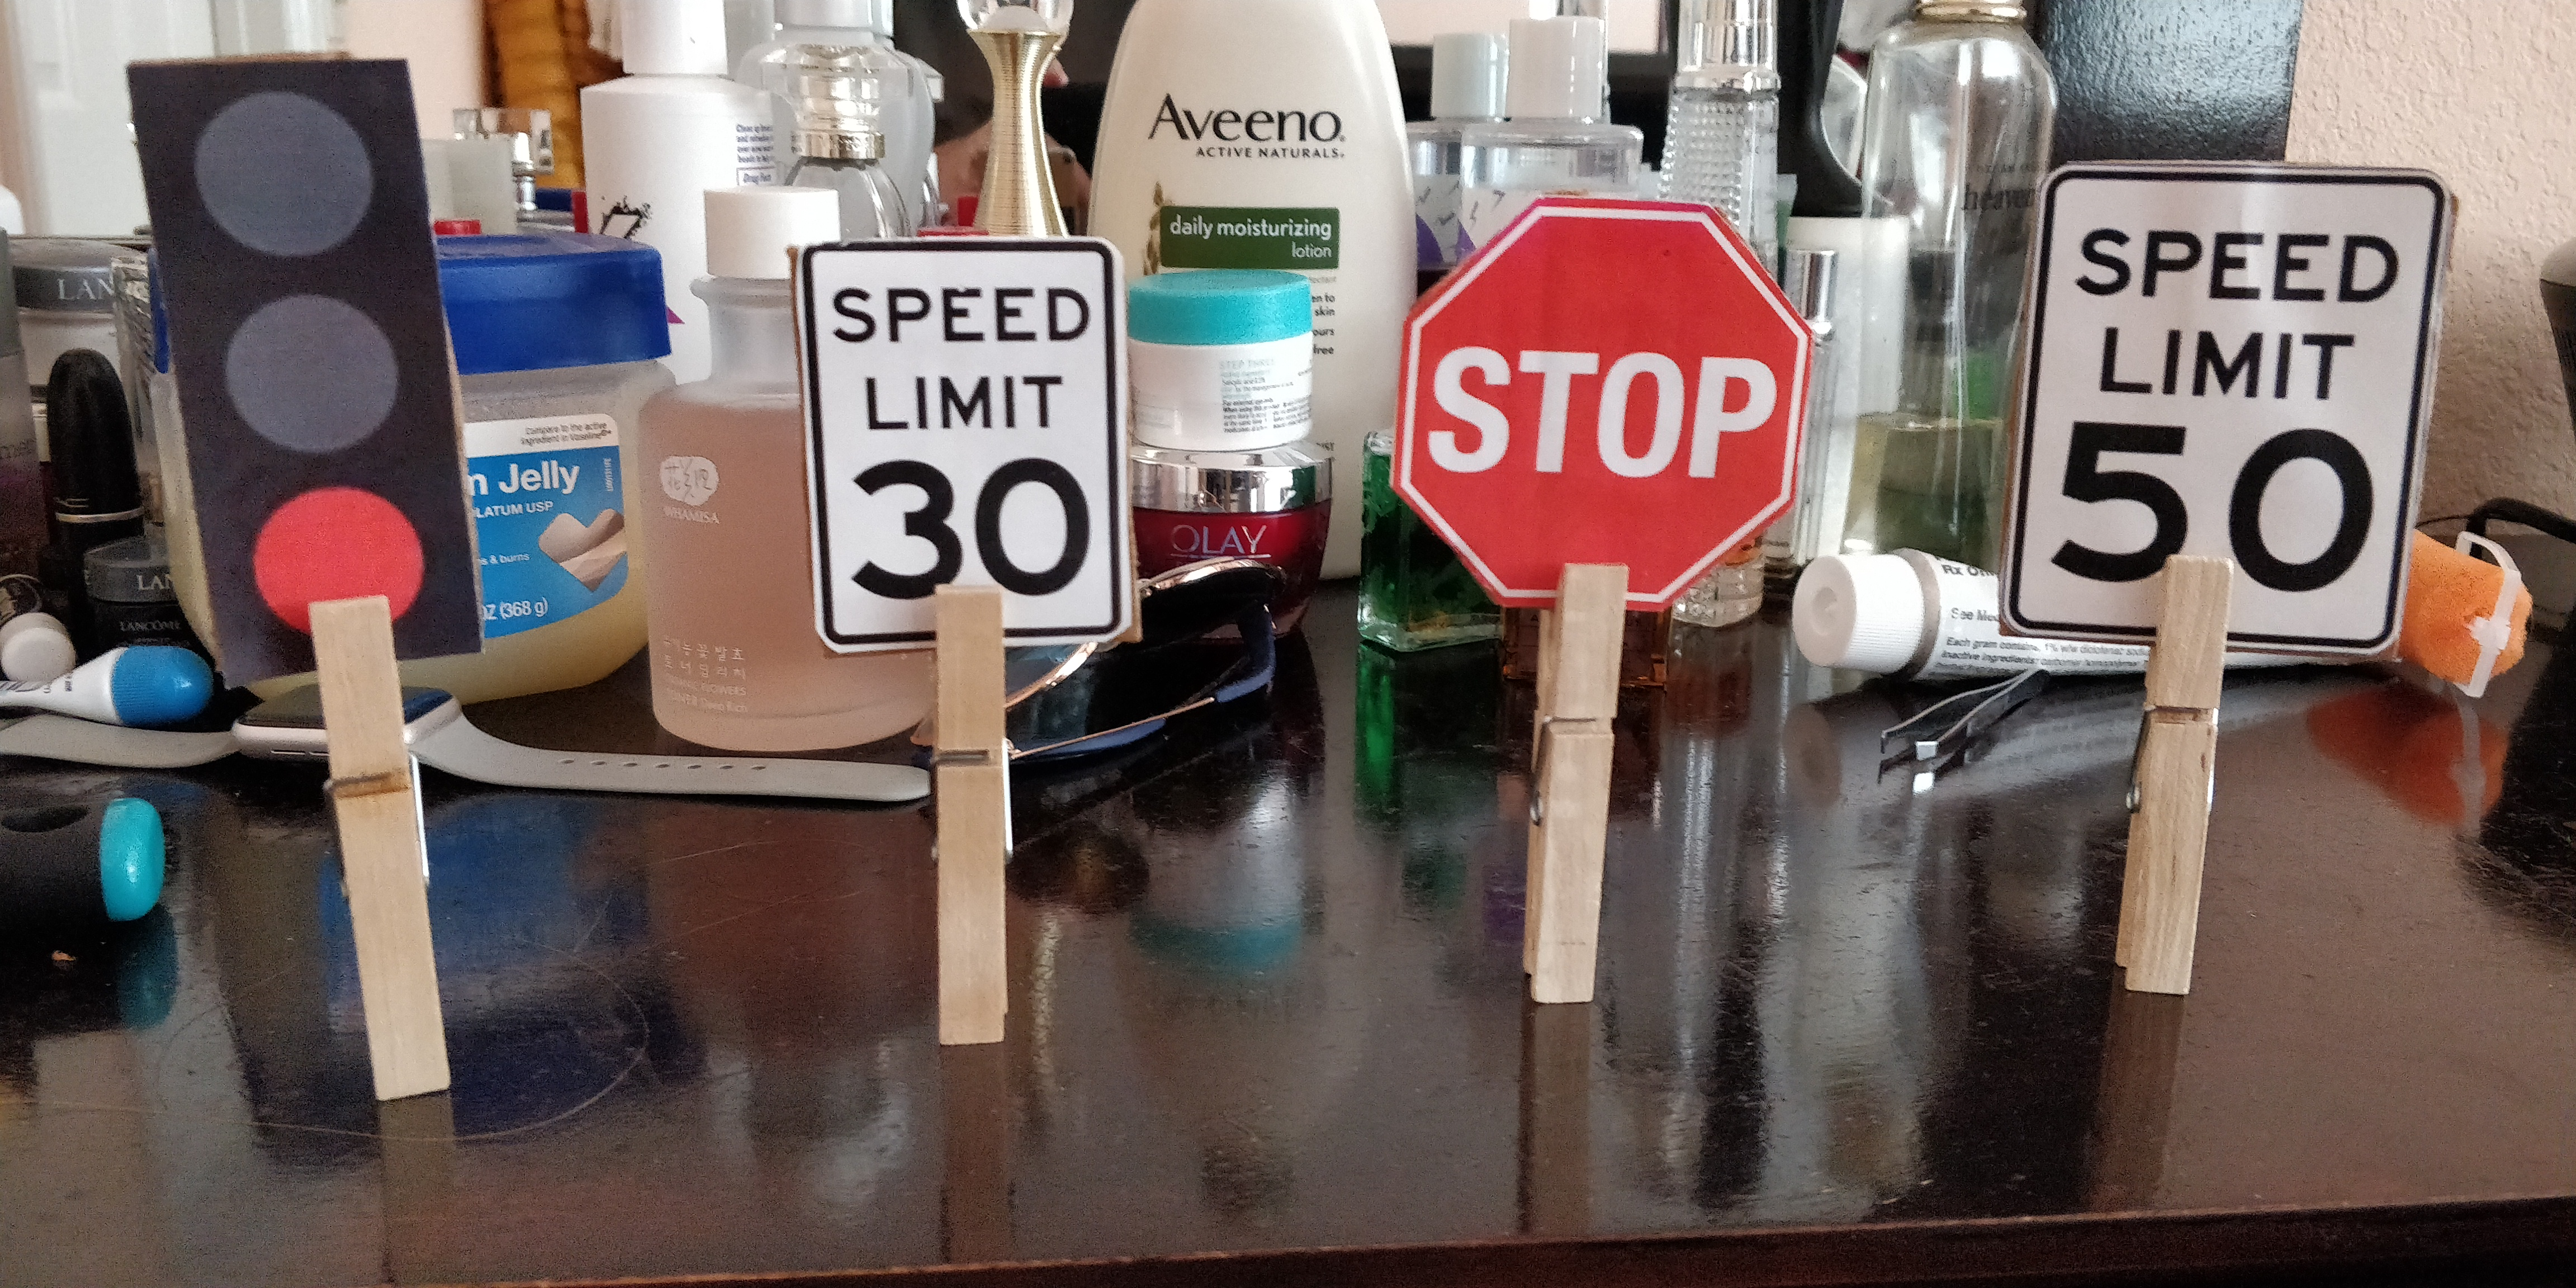Speed Limit 30: (787, 233, 1143, 647)
Speed Limit 50: (1983, 156, 2459, 656)
Stop Sign: (1388, 191, 1815, 608)
red light: (128, 61, 478, 688)
